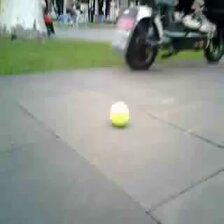tennis: (109, 102, 130, 125)
